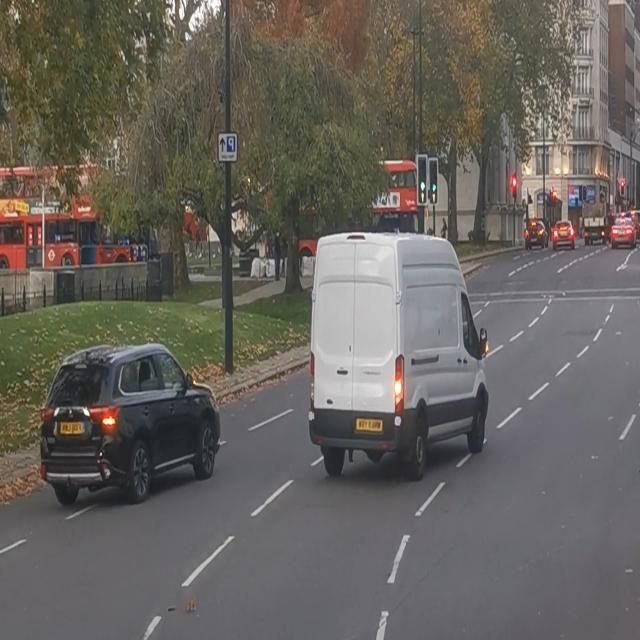Vehicle: (308, 236, 489, 472), (36, 333, 222, 515), (553, 213, 575, 254), (610, 217, 634, 250)
